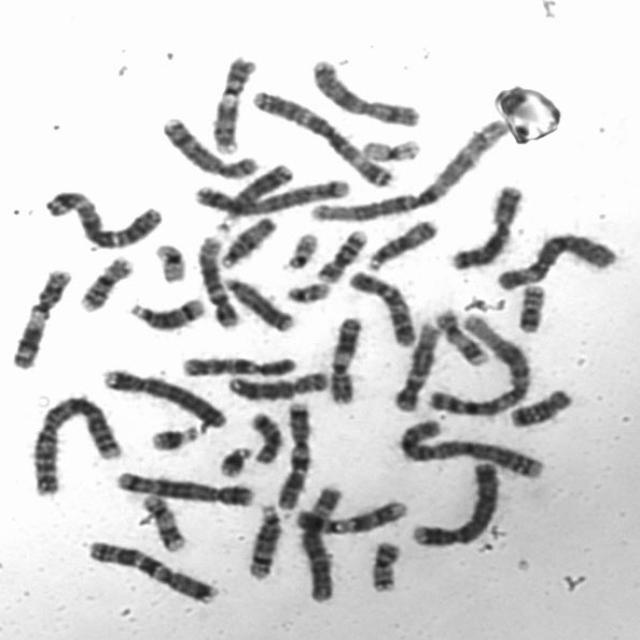A1: (298, 111, 512, 225), (420, 307, 536, 418)
A2: (22, 387, 125, 499), (390, 411, 548, 482)
A3: (245, 82, 398, 188), (37, 181, 167, 250)
B4: (94, 359, 230, 430), (404, 454, 503, 549)
B5: (188, 170, 356, 218), (108, 463, 258, 508)
C10: (342, 262, 420, 348), (174, 348, 300, 378)
C11: (5, 260, 76, 371), (322, 309, 366, 406)
C12: (387, 315, 443, 413), (190, 228, 243, 330)
C6: (488, 224, 621, 293), (294, 477, 347, 604)
C7: (79, 532, 221, 606), (269, 392, 317, 512)
C8: (154, 109, 261, 181), (222, 364, 333, 402)
C9: (204, 48, 258, 154), (286, 492, 412, 536)
D13: (210, 154, 297, 230), (215, 268, 298, 334)
D14: (239, 496, 285, 582), (123, 290, 209, 332)
D15: (360, 211, 442, 272), (213, 208, 280, 269)
E16: (71, 248, 136, 313), (309, 222, 371, 284)
E17: (428, 301, 492, 367), (134, 487, 188, 554)
E18: (502, 381, 577, 429), (242, 404, 286, 466)
F19: (354, 129, 426, 163), (146, 235, 190, 284)
F20: (362, 533, 404, 594), (512, 276, 550, 334)
G21: (142, 416, 202, 454), (212, 438, 256, 478)
G22: (275, 224, 322, 272), (278, 274, 335, 304)
X: (304, 50, 424, 128), (442, 177, 526, 271)
